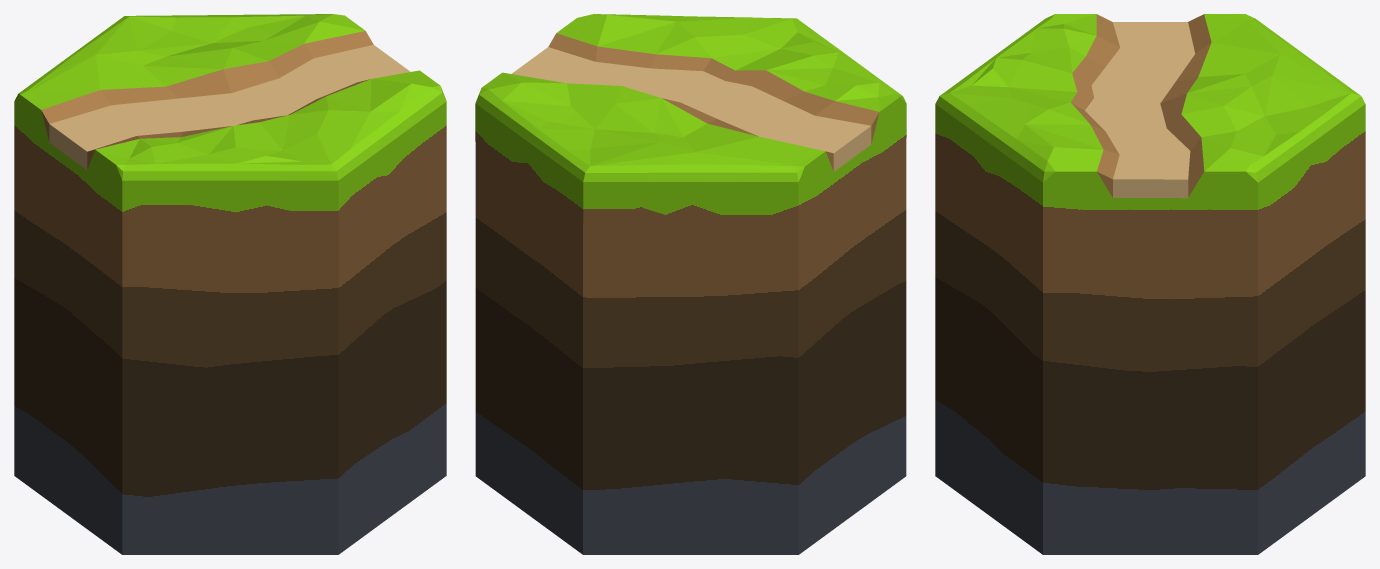
Rendered from HexTilePath_Straight.glb.
3 renders of one model, left to right at view 1: azimuth 30°, elevation 25°; view 2: azimuth 150°, elevation 25°; view 3: azimuth 270°, elevation 25°, orthographic.
Visible parts, largest first — view 1: SM_Tile_Hex_Path_01.003; view 2: SM_Tile_Hex_Path_01.003; view 3: SM_Tile_Hex_Path_01.003.
Boxes of the visible parts, box(x1,y1,x2,y2) form: SM_Tile_Hex_Path_01.003: box(14, 14, 446, 554); SM_Tile_Hex_Path_01.003: box(475, 14, 906, 554); SM_Tile_Hex_Path_01.003: box(935, 14, 1365, 554).
Bounding box in the file's own units: 1.73 × 2.02 × 2.
Materials: 1 (1 with a texture image).
